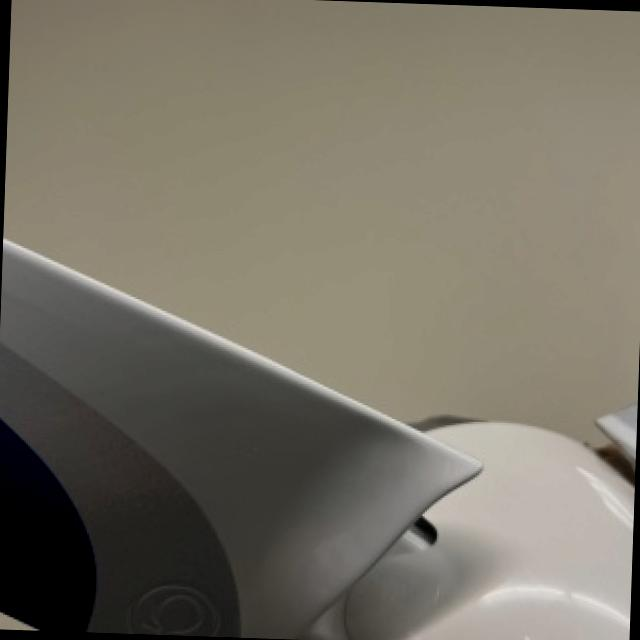healthy: (0, 239, 632, 640)
